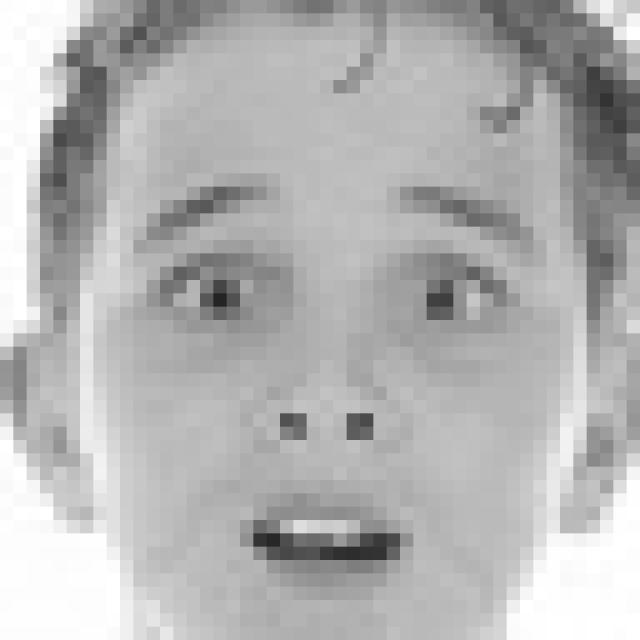fear: (126, 178, 551, 606)
